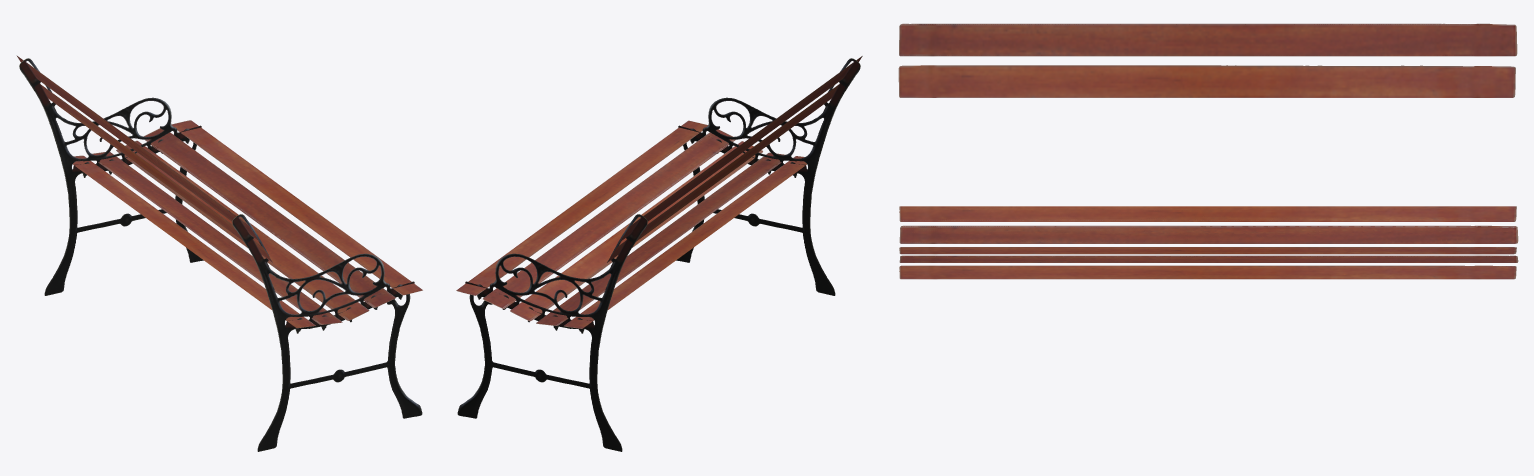
3 views of the same model, side by side, from view 1: azimuth 30°, elevation 25°; view 2: azimuth 150°, elevation 25°; view 3: azimuth 270°, elevation 25° (orthographic). The views are drawn at different scales.
Visible parts, largest first — view 1: group_3, group_0, group_1, group_2; view 2: group_3, group_1, group_0, group_2; view 3: group_2, group_3.
Boxes of the visible parts, x1,y1,x2,y2 form: group_3: (73, 120, 422, 328); group_0: (232, 214, 422, 451); group_1: (19, 58, 203, 295); group_2: (16, 55, 272, 262); group_3: (456, 120, 806, 328); group_1: (457, 214, 647, 451); group_0: (676, 58, 860, 295); group_2: (607, 56, 862, 262); group_2: (898, 23, 1517, 97); group_3: (899, 206, 1518, 279).
Bounding box in the file's own units: 22.36 × 48.03 × 27.56.
2 materials, 2 textured.
